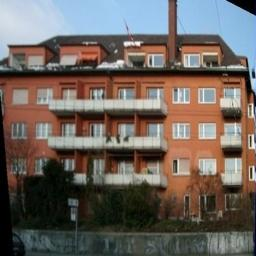building: (0, 31, 246, 231)
